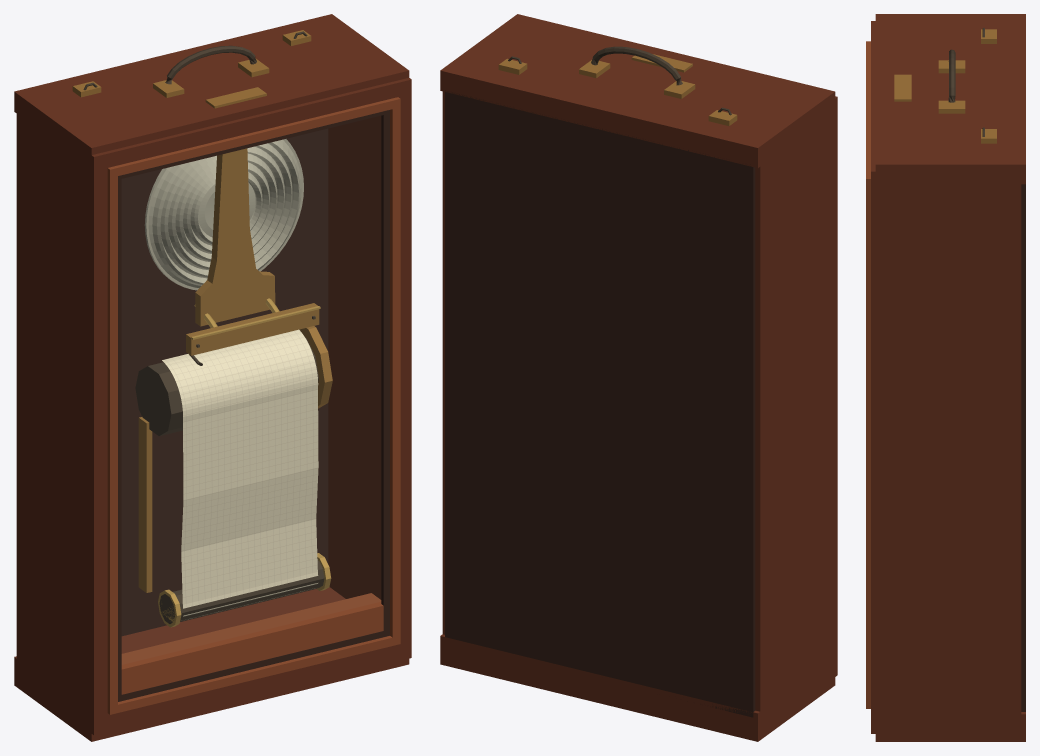
Rendered from xuhui-zikawei-museum-french-vertical-barometer-lod.glb.
The picture shows the model from 3 angles, left to right: view 1: azimuth 30°, elevation 25°; view 2: azimuth 150°, elevation 25°; view 3: azimuth 270°, elevation 25°; orthographic projection. The views are drawn at different scales.
Visible parts, largest first — view 1: 上海气象博物馆藏法国垂直气压计; view 2: 上海气象博物馆藏法国垂直气压计; view 3: 上海气象博物馆藏法国垂直气压计.
Part boxes in pixels (x1,y1,x2,y2): 上海气象博物馆藏法国垂直气压计: [14, 14, 411, 741]; 上海气象博物馆藏法国垂直气压计: [440, 14, 837, 741]; 上海气象博物馆藏法国垂直气压计: [866, 14, 1025, 741].
Size of the model in its own units: 0.56 by 1.05 by 0.251.
Materials: 9 (1 with a texture image).
